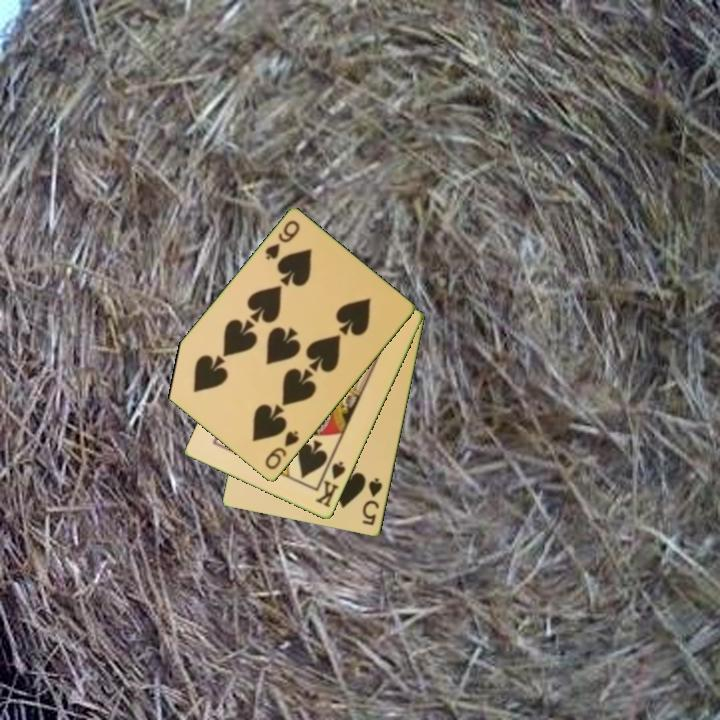5s: (359, 475, 385, 529)
9s: (261, 427, 302, 473), (262, 217, 303, 263)
Ks: (312, 458, 349, 511)
